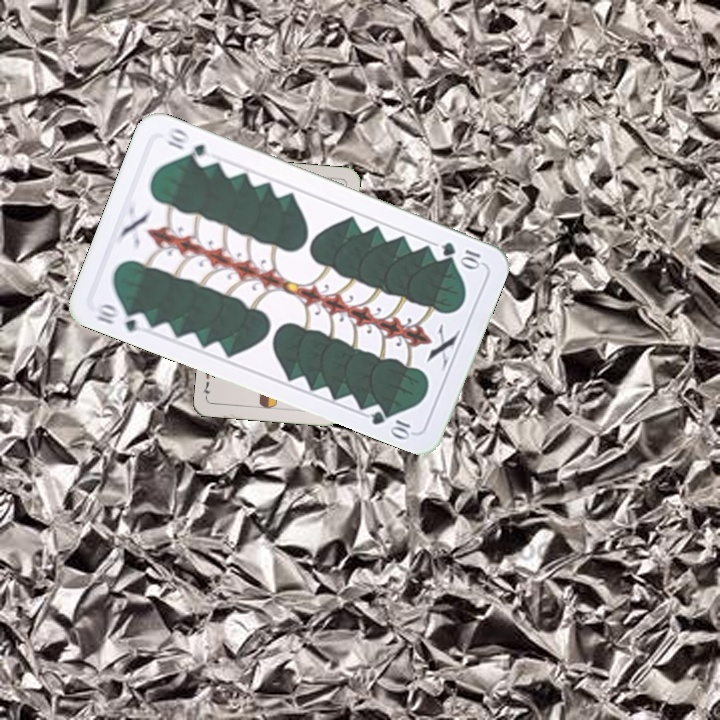G10: (90, 299, 151, 335), (437, 237, 483, 271)
